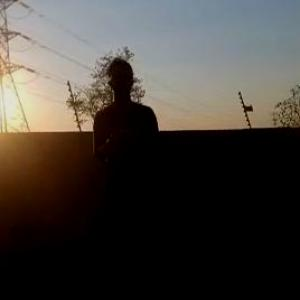follow: (89, 46, 190, 299)
